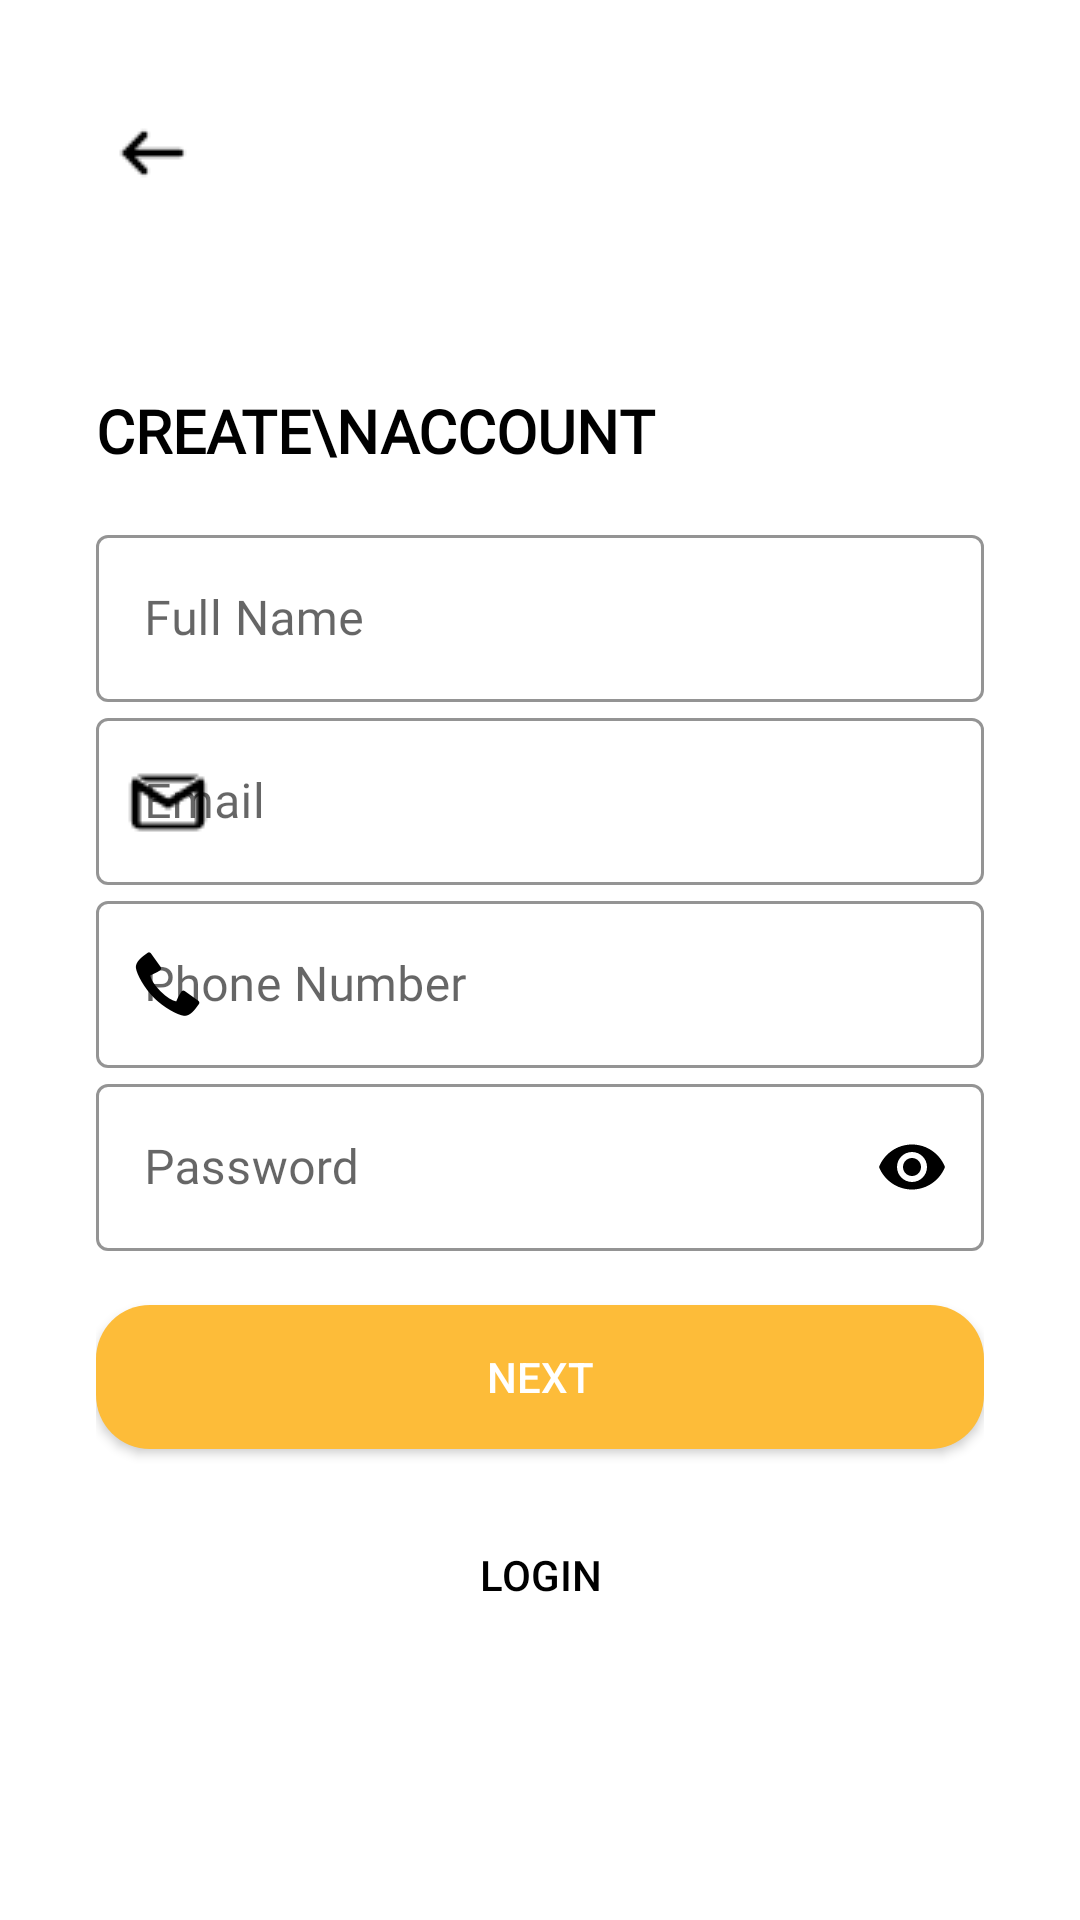

Locate icon controls on the screen. Image size 1080px x 1920px, boxes as rect(x1, y1, x2, y2).
back: rect(120, 131, 184, 175)
